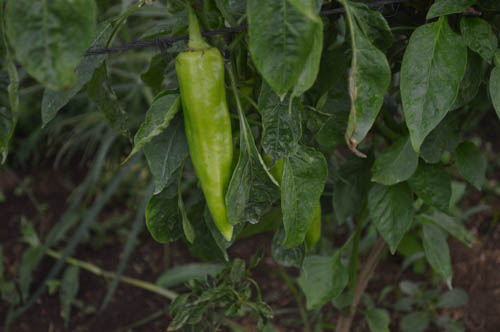ChiliPepper: (178, 51, 236, 243), (265, 152, 325, 246)
